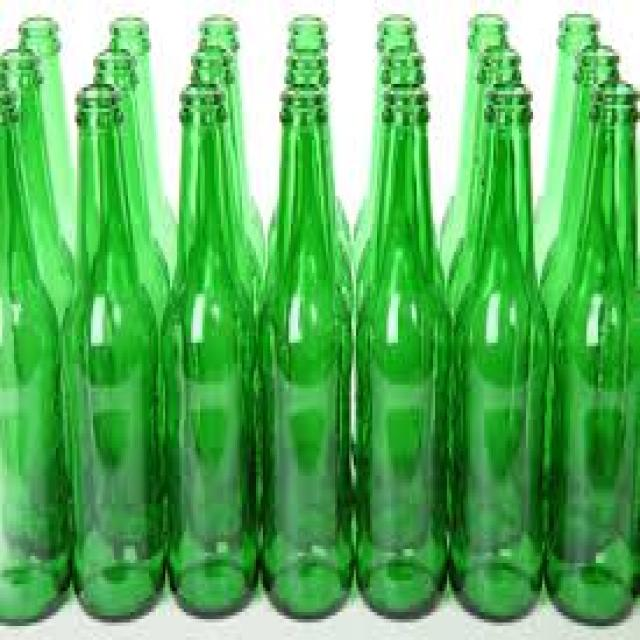glass: (58, 77, 163, 619), (158, 81, 256, 616), (256, 81, 351, 616), (545, 77, 638, 622), (452, 80, 545, 619), (356, 81, 449, 616), (0, 69, 67, 622), (263, 49, 354, 315), (538, 42, 619, 322), (91, 45, 172, 322), (447, 42, 521, 311), (356, 42, 428, 318), (265, 11, 349, 242), (0, 45, 70, 322), (107, 14, 177, 283), (189, 42, 256, 315), (531, 11, 596, 284), (438, 10, 505, 273), (352, 11, 415, 270), (200, 11, 263, 270), (16, 14, 77, 262)
